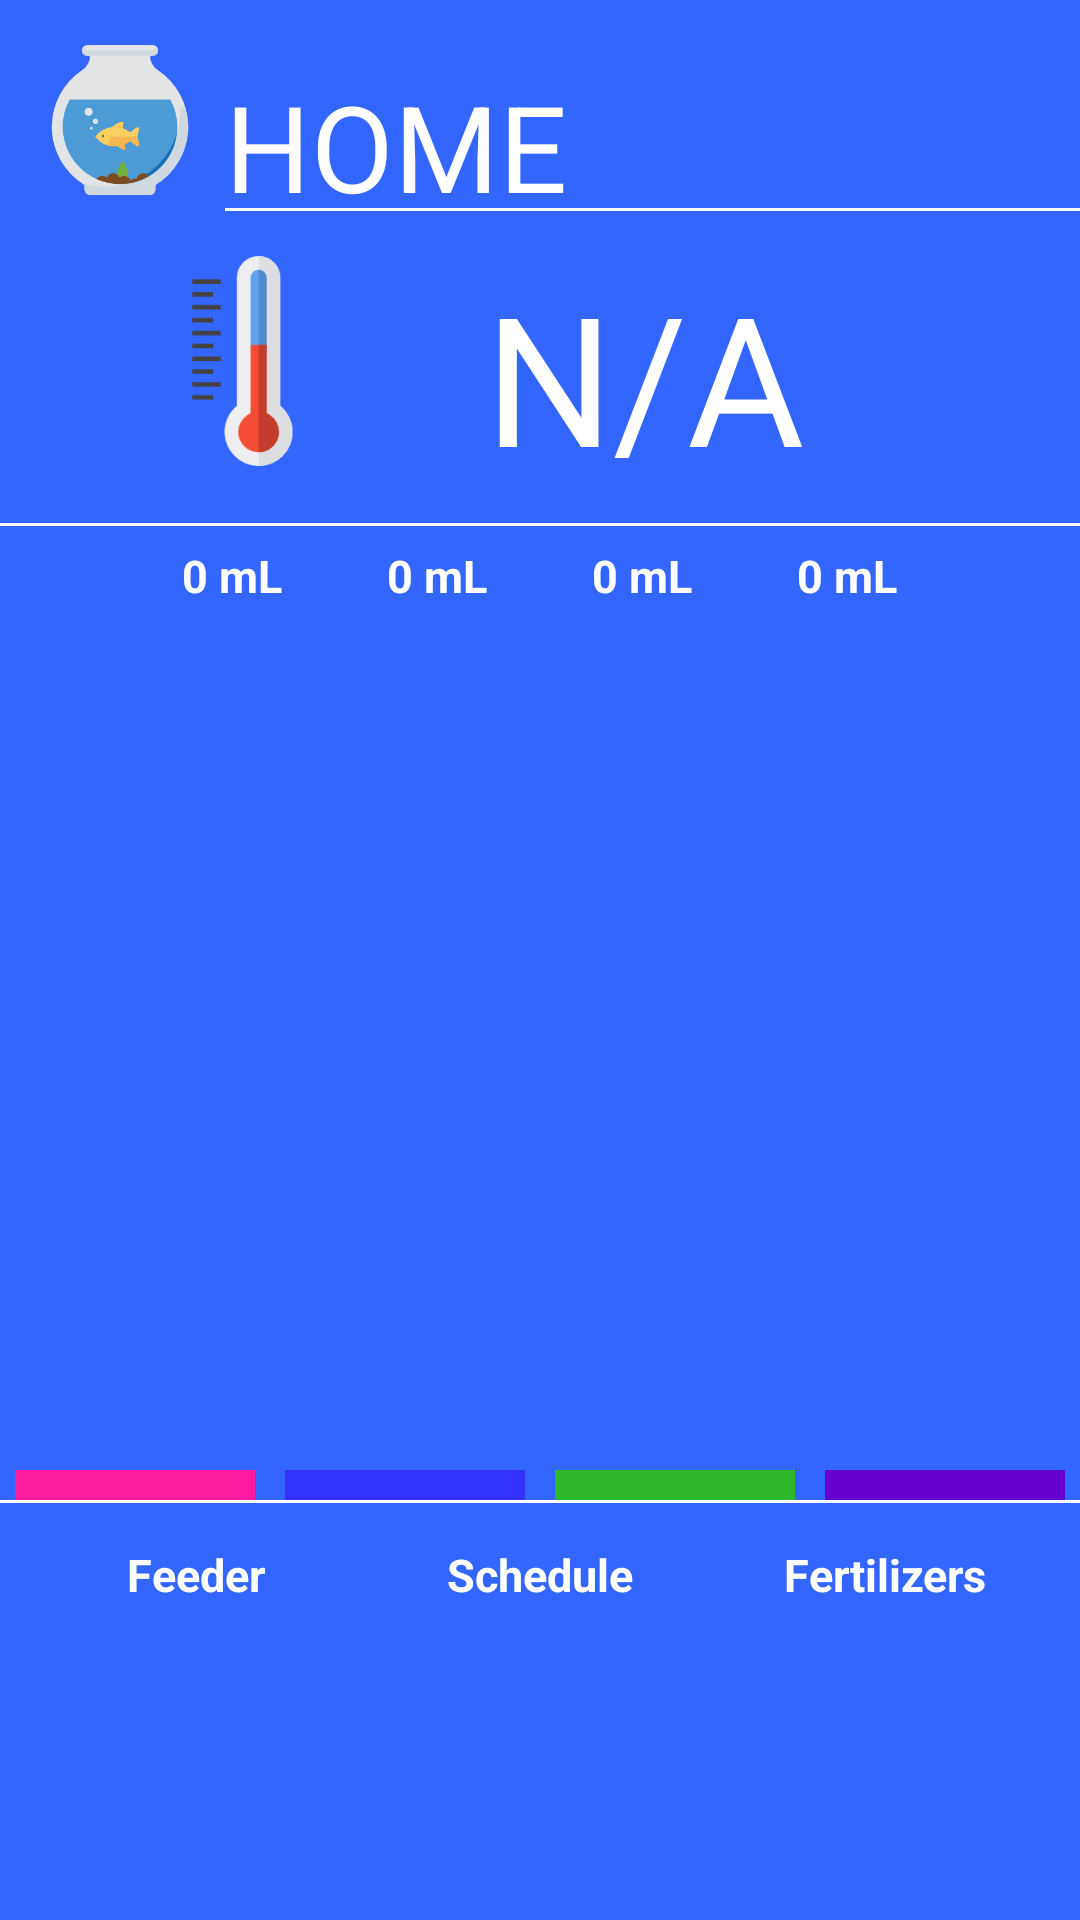

Point at icon controls on the screen. Image size 1080×1920, points as point (x, y).
aquarium: point (120, 120)
thermometer: point (242, 361)
